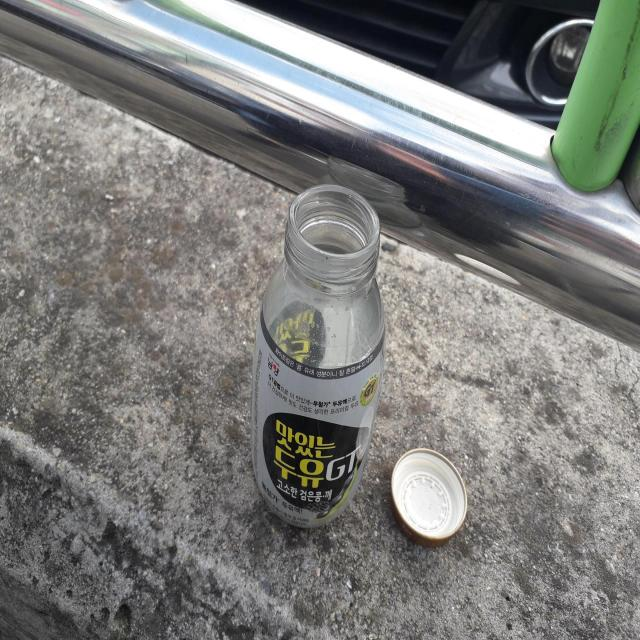glass: (251, 184, 385, 528)
